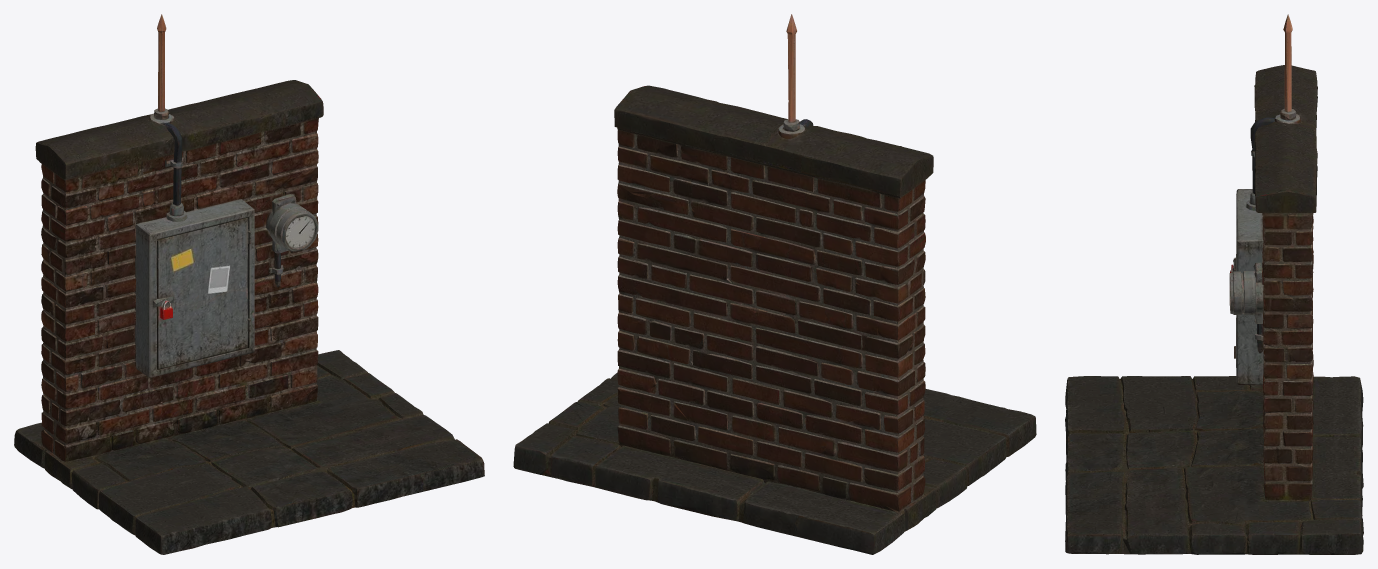
3 views of the same model, side by side, from view 1: azimuth 30°, elevation 25°; view 2: azimuth 150°, elevation 25°; view 3: azimuth 270°, elevation 25° (orthographic). The views are drawn at different scales.
Parts seen in each view (by area): view 1: escala_real; view 2: escala_real; view 3: escala_real.
Part boxes in pixels (x1=…): escala_real: x1=14, y1=14, x2=484, y2=554; escala_real: x1=513, y1=14, x2=1036, y2=554; escala_real: x1=1065, y1=14, x2=1363, y2=554.
Bounding box in the file's own units: 1.82 × 2.3 × 1.43.
Materials: 1 (1 with a texture image).
